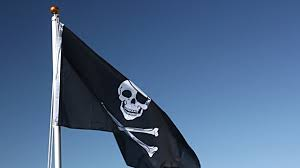Jolly Roger Flag: (44, 21, 201, 168)
